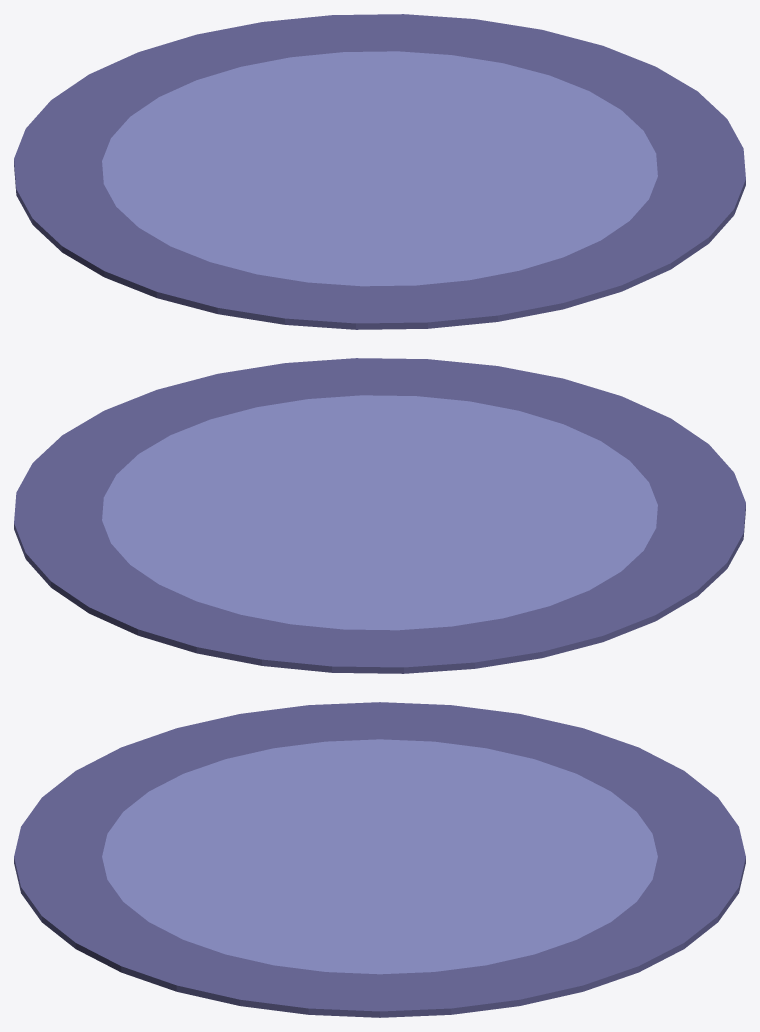
File: LoungeRoom_Carpet.fbx
3 renders of one model, top to bottom at view 1: azimuth 30°, elevation 25°; view 2: azimuth 150°, elevation 25°; view 3: azimuth 270°, elevation 25°, orthographic.
Parts seen in each view (by area): view 1: LoungeRoom_Carpet_1; view 2: LoungeRoom_Carpet_1; view 3: LoungeRoom_Carpet_1.
Part boxes in pixels (bbox=[...]): LoungeRoom_Carpet_1: bbox=[14, 14, 745, 329]; LoungeRoom_Carpet_1: bbox=[14, 358, 745, 673]; LoungeRoom_Carpet_1: bbox=[14, 702, 745, 1017].
Size of the model in its own units: 522 by 522 by 5.
